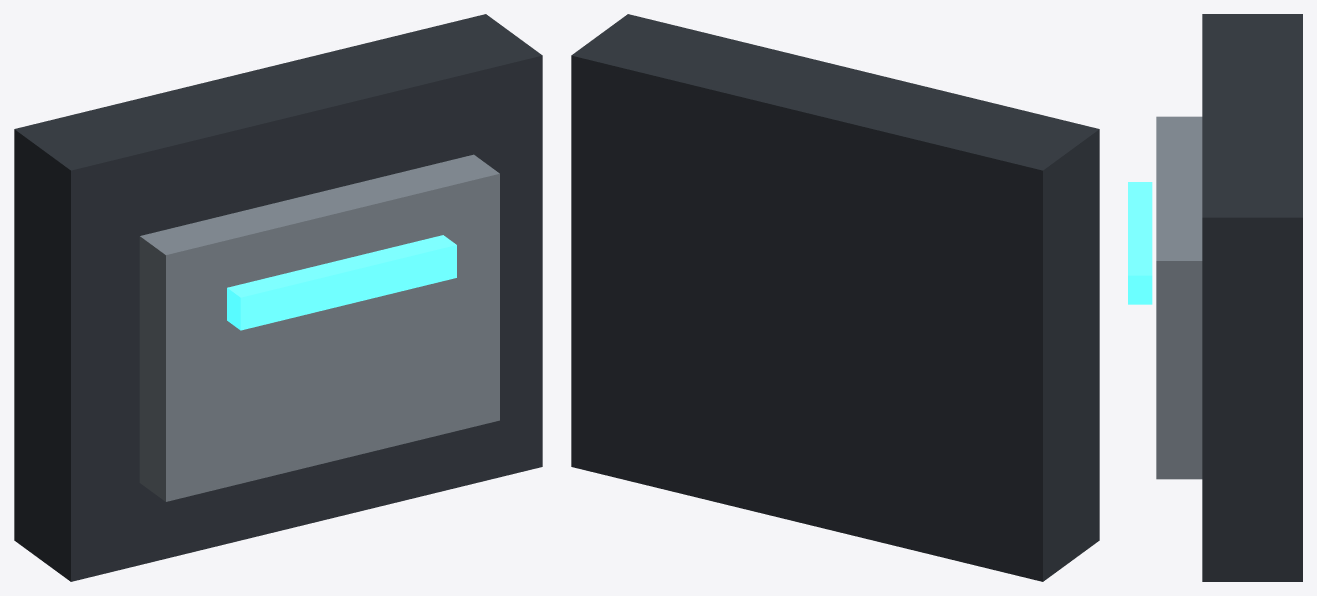
The model's file is chest_interface.glb.
3 renders of one model, left to right at view 1: azimuth 30°, elevation 25°; view 2: azimuth 150°, elevation 25°; view 3: azimuth 270°, elevation 25°, orthographic. The views are drawn at different scales.
Visible parts, largest first — view 1: part_000, part_001, part_002; view 2: part_000; view 3: part_000, part_001, part_002.
Boxes of the visible parts, bbox=[...] form: part_000: bbox=[14, 14, 542, 581]; part_001: bbox=[139, 154, 499, 501]; part_002: bbox=[227, 235, 456, 330]; part_000: bbox=[571, 14, 1099, 581]; part_000: bbox=[1202, 14, 1302, 581]; part_001: bbox=[1156, 116, 1202, 479]; part_002: bbox=[1128, 182, 1152, 304].
Bounding box in the file's own units: 0.12 × 0.1 × 0.0435.
